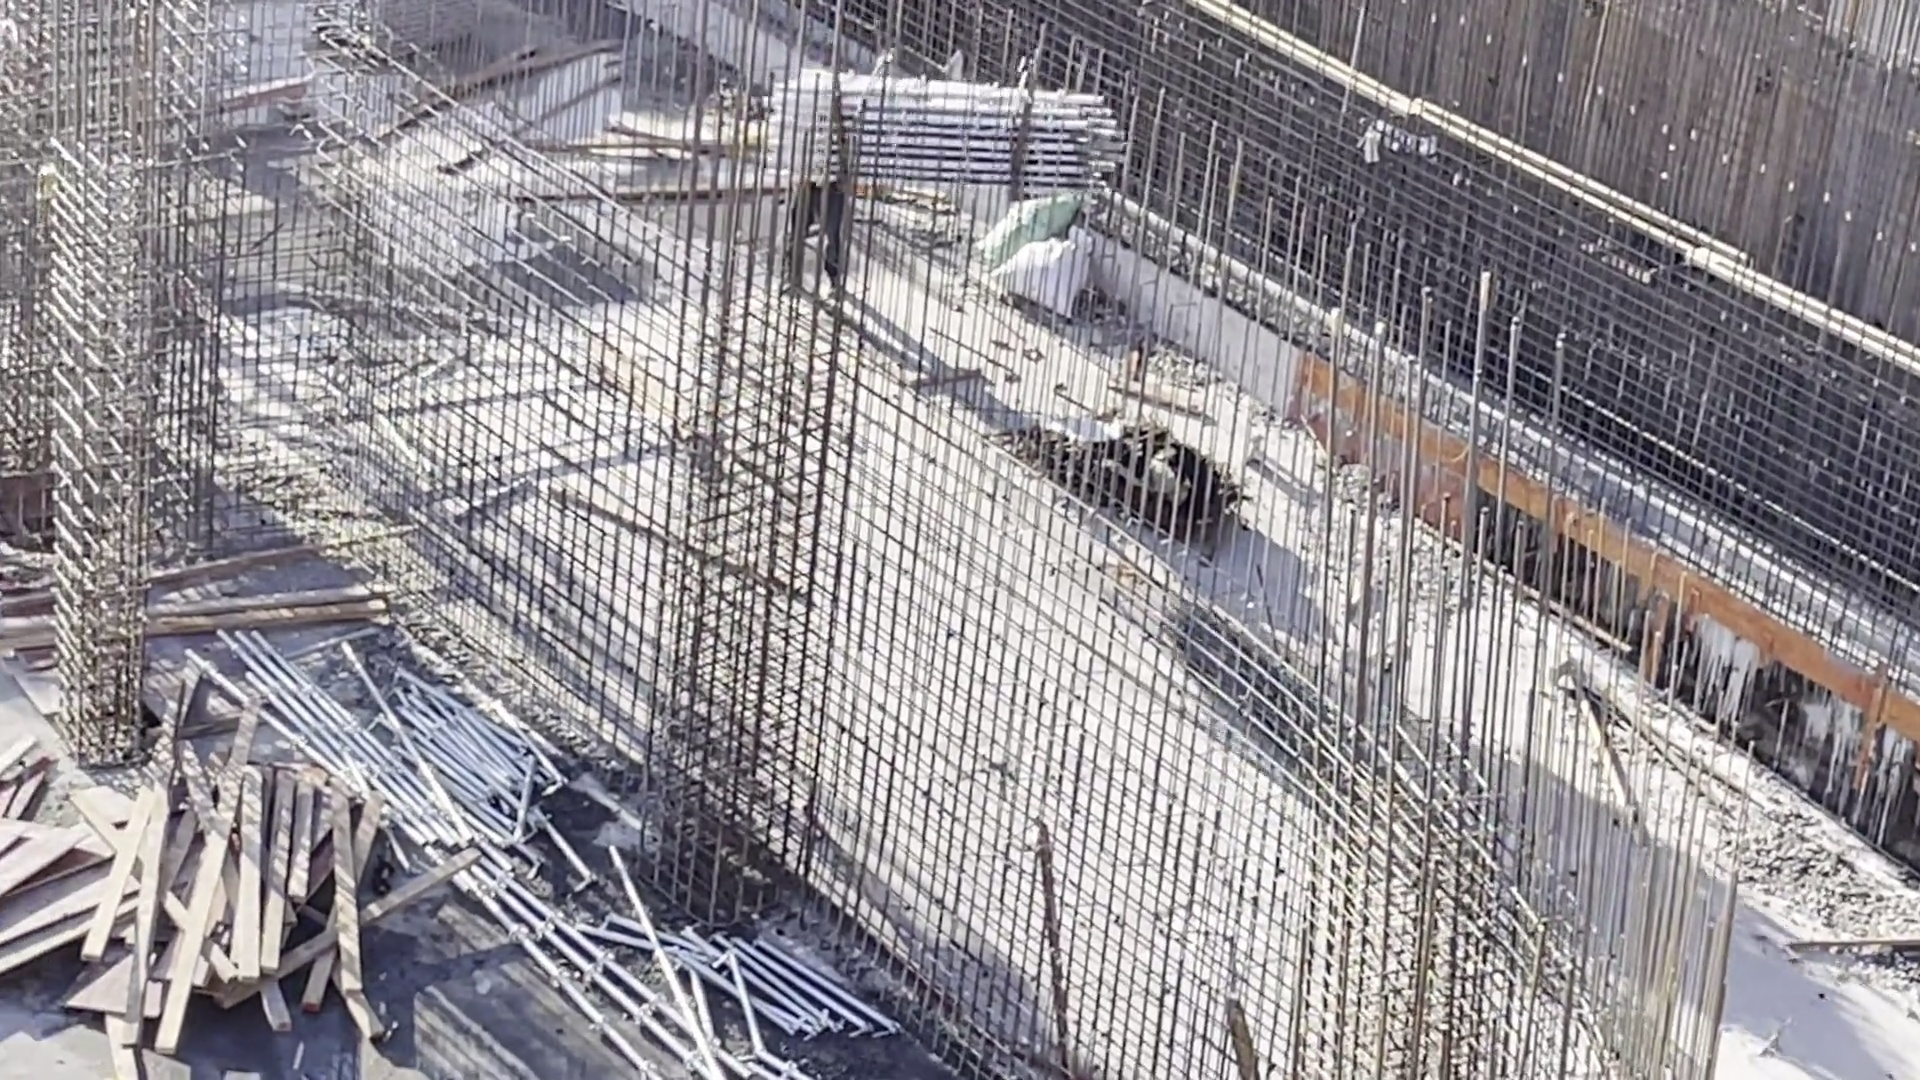board: (1, 813, 124, 963)
person: (795, 122, 864, 313)
scaffold: (761, 76, 1161, 174), (368, 724, 548, 864), (680, 922, 850, 1031), (347, 1, 453, 83)
wood: (100, 762, 397, 1062)
